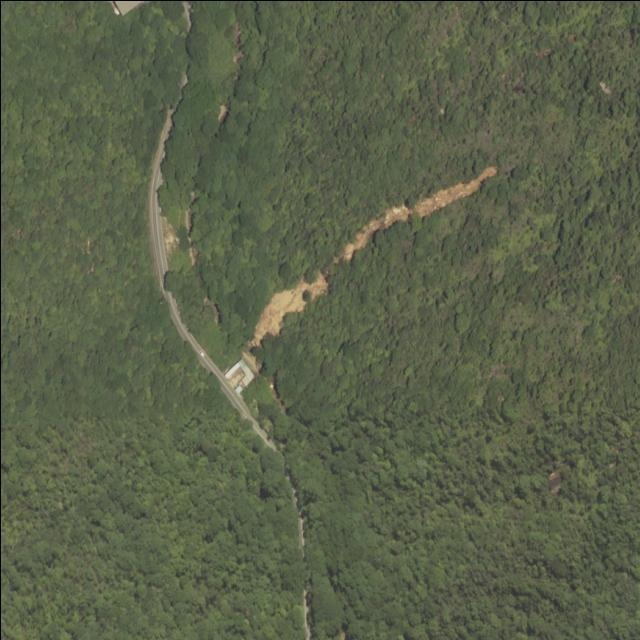landslide: (333, 165, 497, 262), (249, 272, 328, 345)
